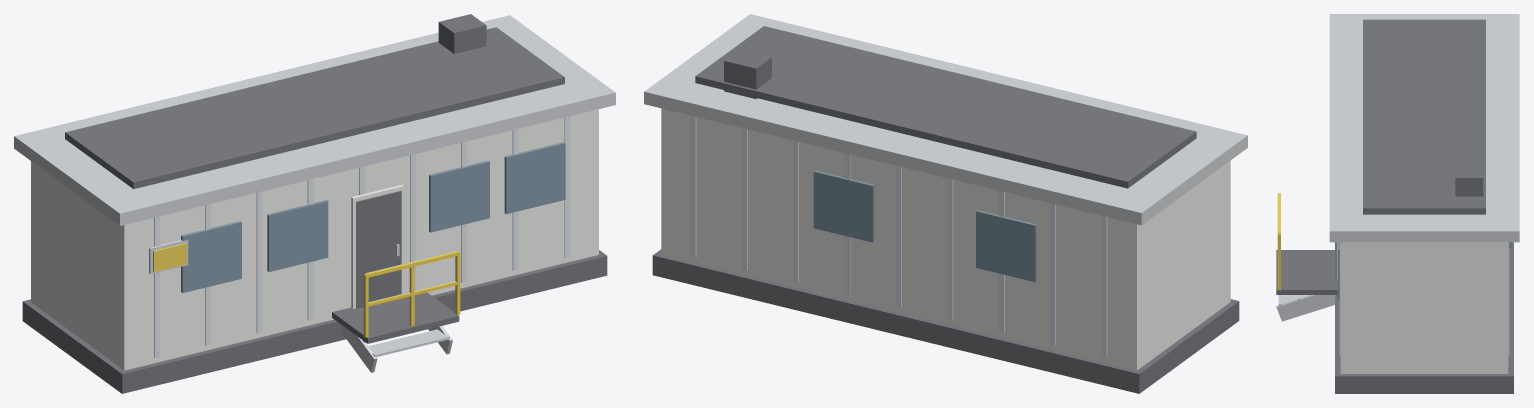
The model's file is Site Office Cabin.glb.
3 views of the same model, side by side, from view 1: azimuth 30°, elevation 25°; view 2: azimuth 150°, elevation 25°; view 3: azimuth 270°, elevation 25° (orthographic). The views are drawn at different scales.
Visible parts, largest first — view 1: site-office-cabin, door-office/charcoal, door-office/white; view 2: site-office-cabin; view 3: site-office-cabin.
Boxes of the visible parts, left/top/right/bottom form: site-office-cabin: left=14, top=14, right=615, bottom=393; door-office/charcoal: left=356, top=191, right=401, bottom=308; door-office/white: left=351, top=184, right=404, bottom=308; site-office-cabin: left=644, top=14, right=1247, bottom=393; site-office-cabin: left=1276, top=14, right=1519, bottom=393.
Bounding box in the file's own units: 9.2 × 3.99 × 4.35.
